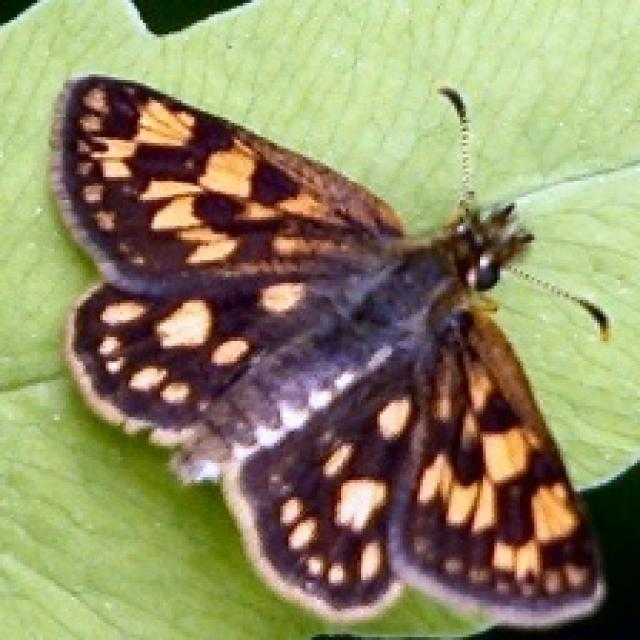butterfly: (46, 69, 637, 628)
